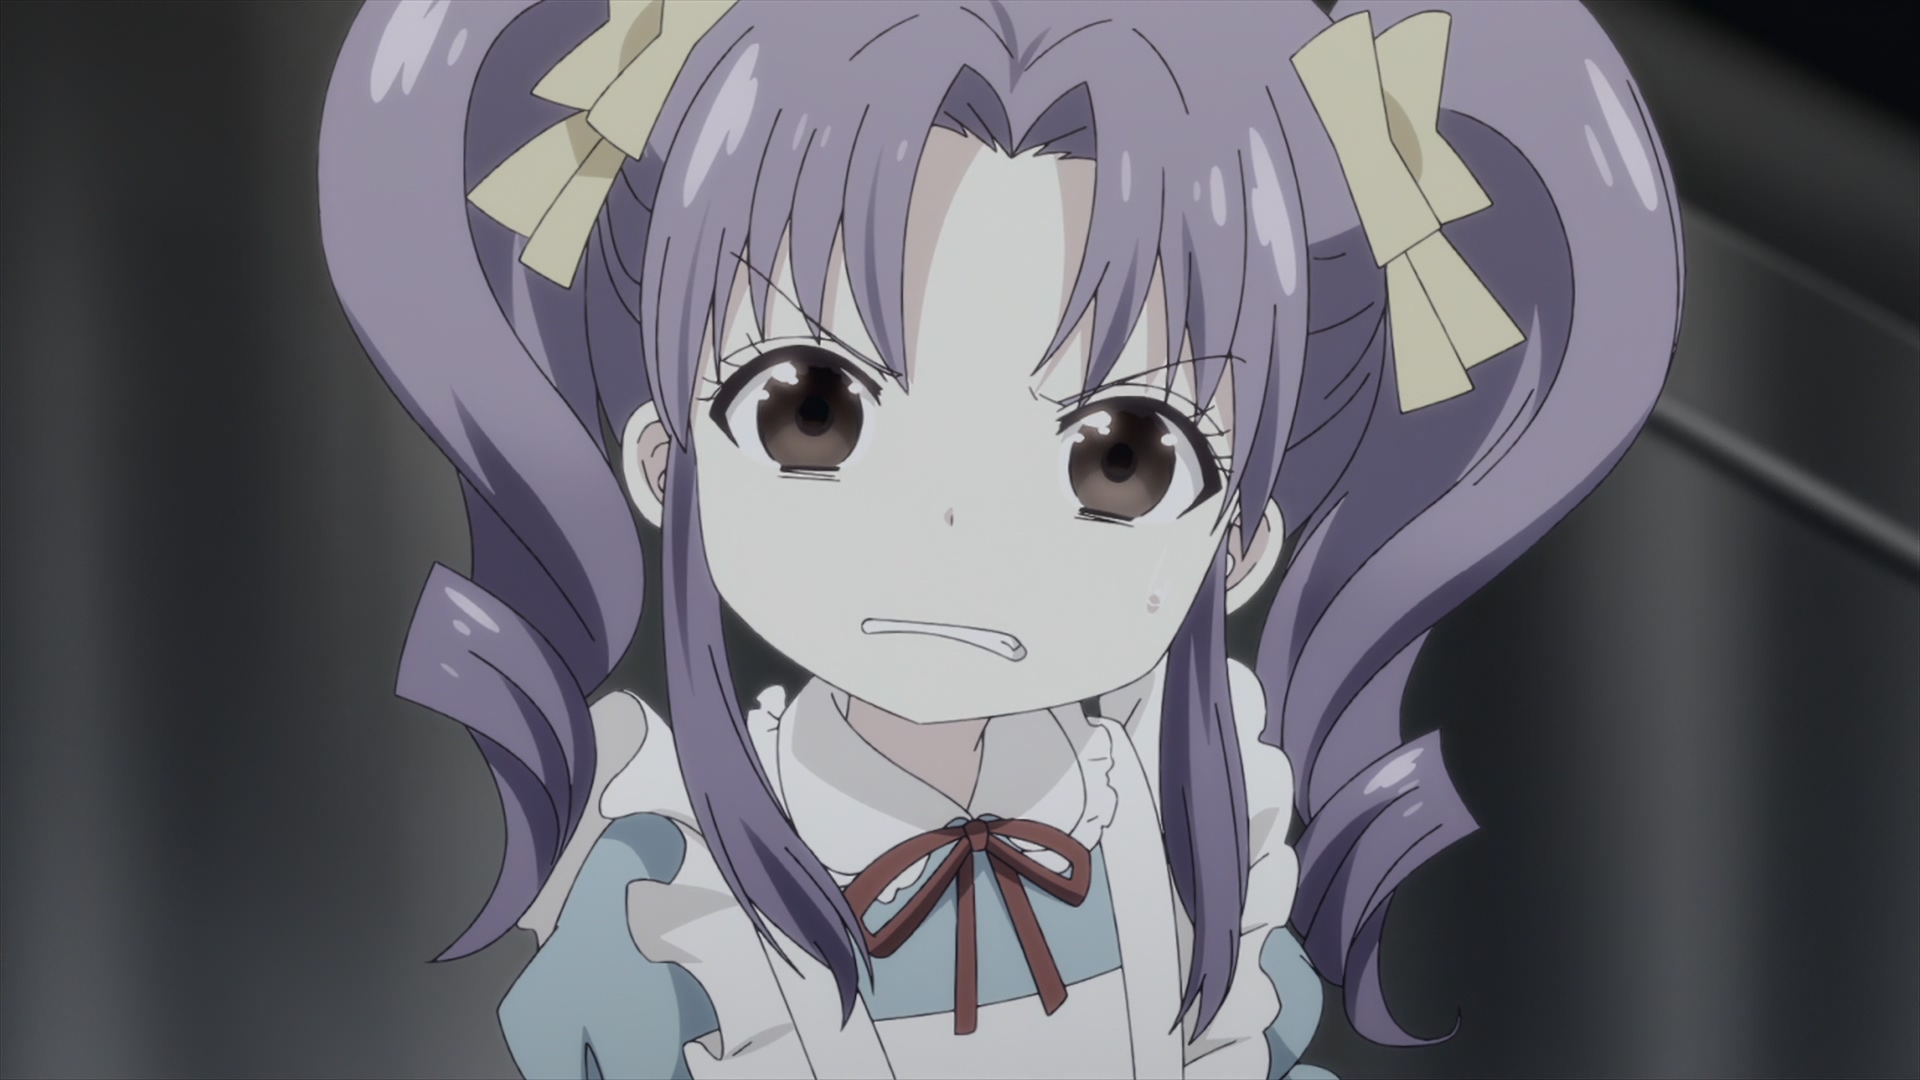阿菊: (316, 1, 1680, 1080)
